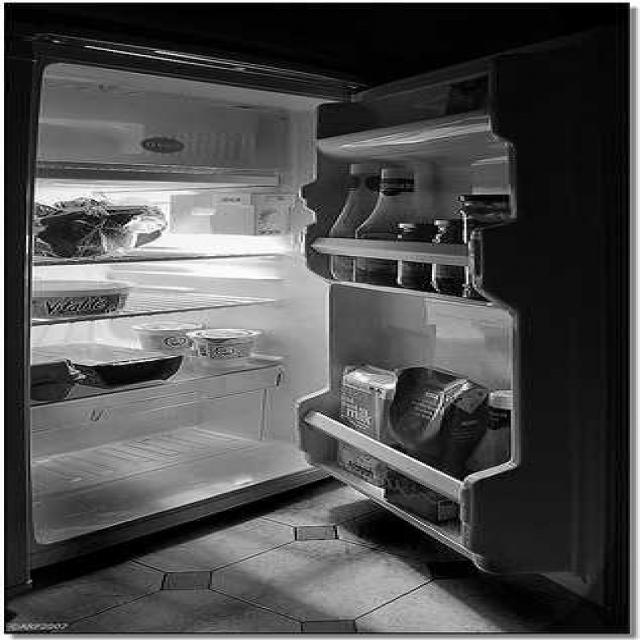refrigerator: (11, 28, 534, 583)
